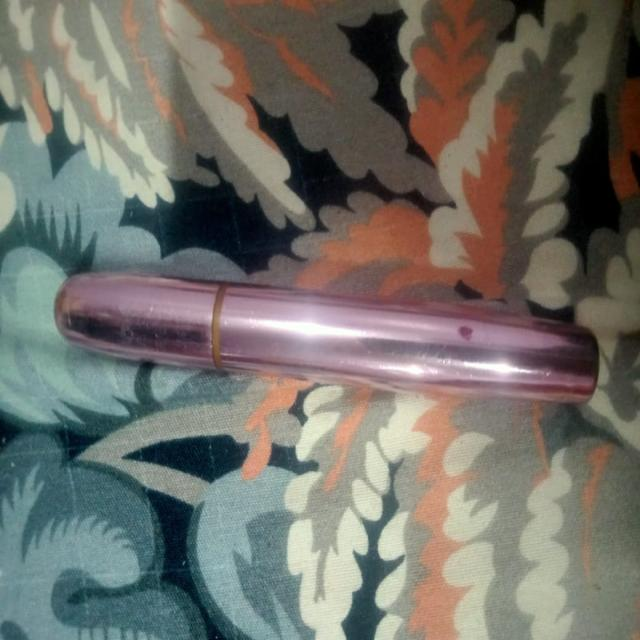mascara: (41, 247, 601, 442)
